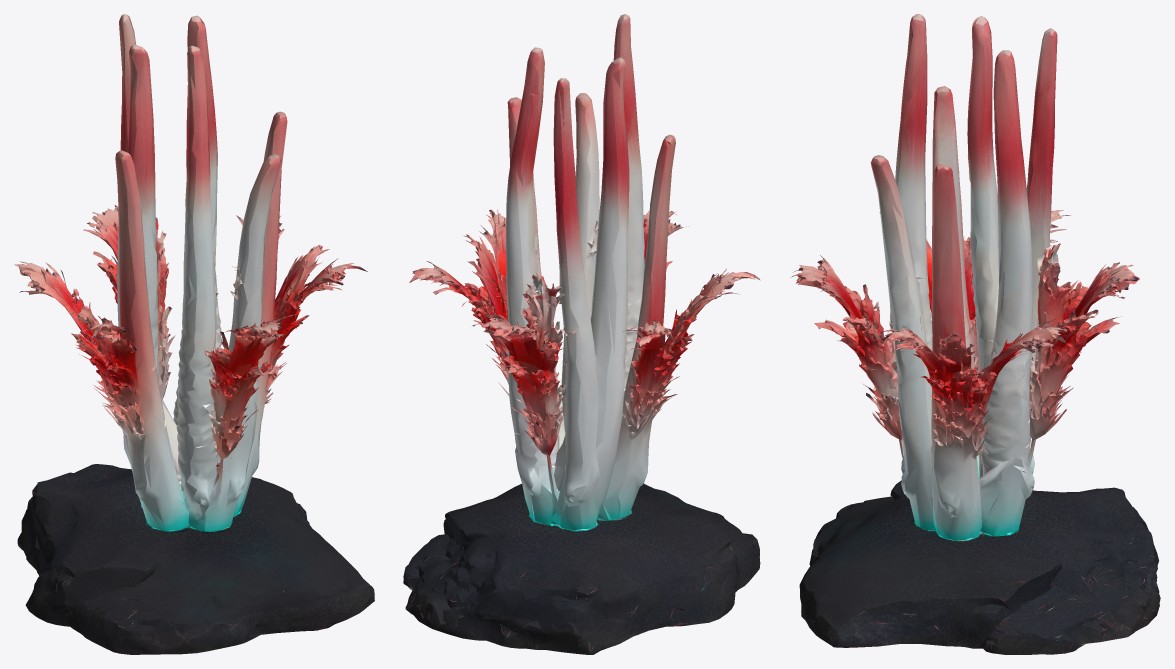
The model's file is bloom_tube_worms.glb.
3 views of the same model, side by side, from view 1: azimuth 30°, elevation 25°; view 2: azimuth 150°, elevation 25°; view 3: azimuth 270°, elevation 25° (orthographic). The views are drawn at different scales.
Size of the model in its own units: 1.03 by 1.9 by 1.13.
Materials: 1 (1 with a texture image).
